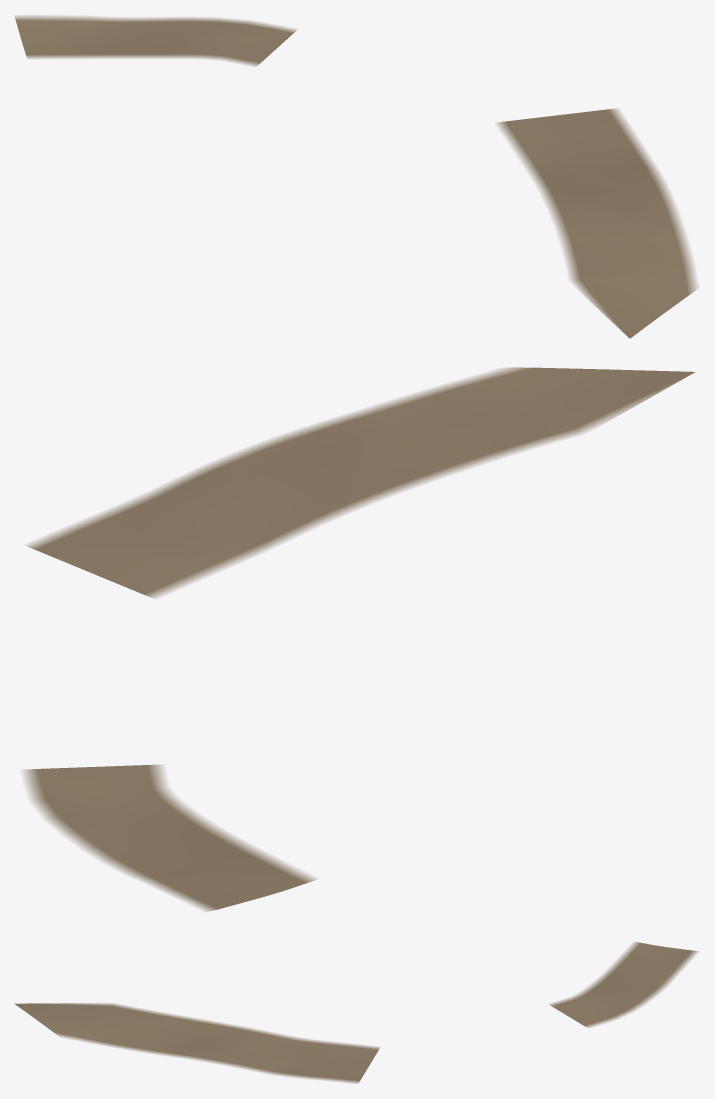
Rendered from paths_grove.glb.
3 views of the same model, one above another, from view 1: azimuth 30°, elevation 25°; view 2: azimuth 150°, elevation 25°; view 3: azimuth 270°, elevation 25° (orthographic). The views are drawn at different scales.
Visible parts, largest first — view 1: path_to_grove, path_orchard_to_grove; view 2: path_to_grove, path_orchard_to_grove; view 3: path_to_grove, path_orchard_to_grove.
Boxes of the visible parts, x1,y1,x2,y2 form: path_to_grove: (496,108,698,338); path_orchard_to_grove: (15,15,297,66); path_to_grove: (25,367,695,598); path_orchard_to_grove: (22,764,317,911); path_to_grove: (14,1003,379,1083); path_orchard_to_grove: (549,942,698,1027).
Size of the model in its own units: 4.84 by 0.0956 by 10.03.
